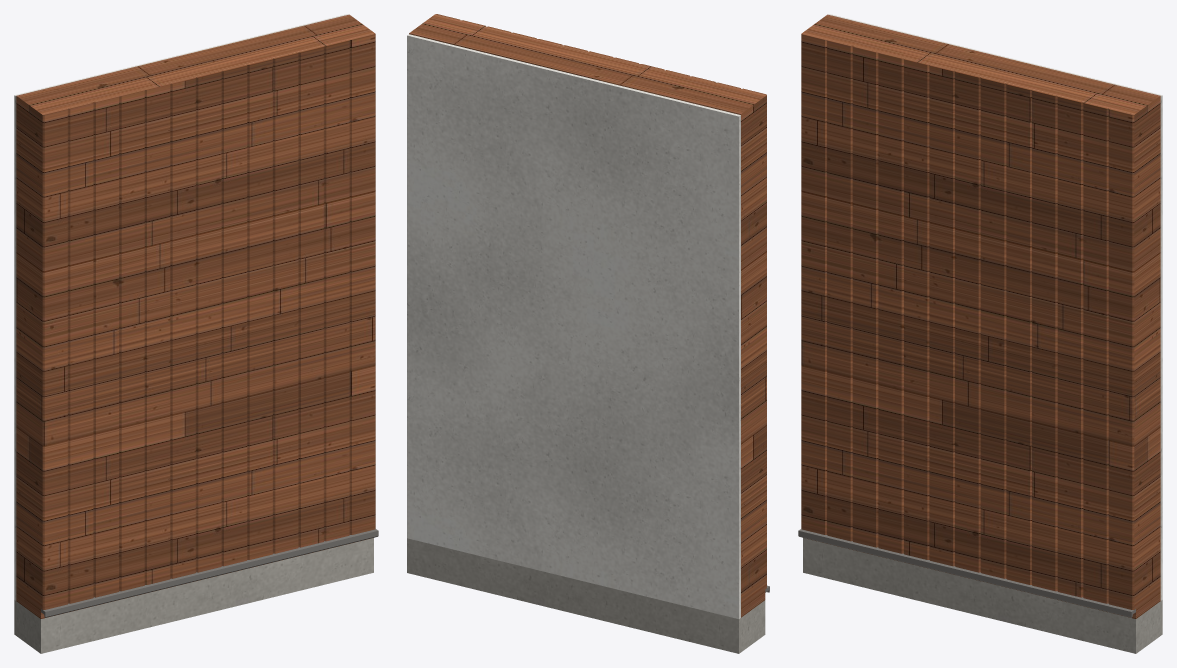
File: wall_boards.glb
The picture shows the model from 3 angles, left to right: view 1: azimuth 30°, elevation 25°; view 2: azimuth 150°, elevation 25°; view 3: azimuth 330°, elevation 25°; orthographic projection.
Visible parts, largest first — view 1: wall_boards_boards, wall_boards_concrete, wall_boards_metal, wall_boards_plaster; view 2: wall_boards_plaster, wall_boards_boards, wall_boards_concrete; view 3: wall_boards_boards, wall_boards_concrete, wall_boards_metal, wall_boards_plaster.
Part boxes in pixels (x1,y1,x2,y2): wall_boards_boards: (16, 14, 375, 618); wall_boards_concrete: (14, 538, 373, 653); wall_boards_metal: (41, 528, 378, 617); wall_boards_plaster: (14, 14, 348, 600); wall_boards_plaster: (407, 34, 740, 618); wall_boards_boards: (409, 14, 766, 617); wall_boards_concrete: (407, 538, 765, 653); wall_boards_boards: (801, 14, 1160, 618); wall_boards_concrete: (803, 538, 1162, 653); wall_boards_metal: (798, 528, 1135, 617); wall_boards_plaster: (828, 14, 1162, 600).
Bounding box in the file's own units: 2 × 3.1 × 0.322.
Materials: 4 (3 with a texture image).
